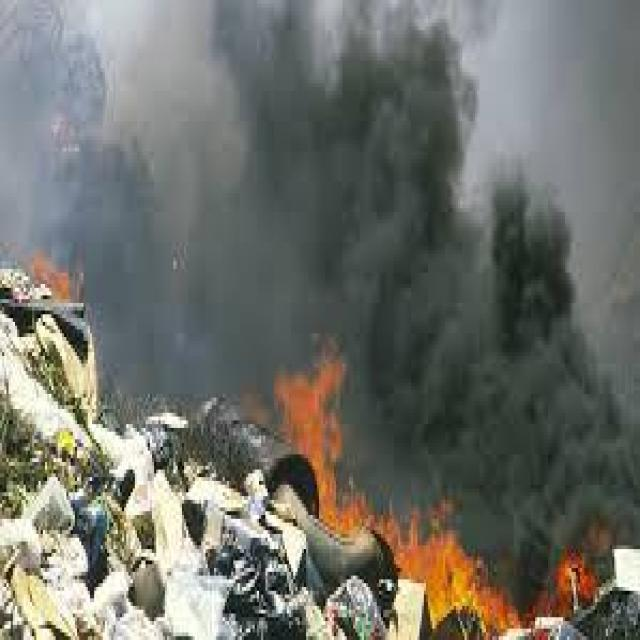Fire: (244, 348, 582, 640)
Smoke: (0, 0, 640, 341)
